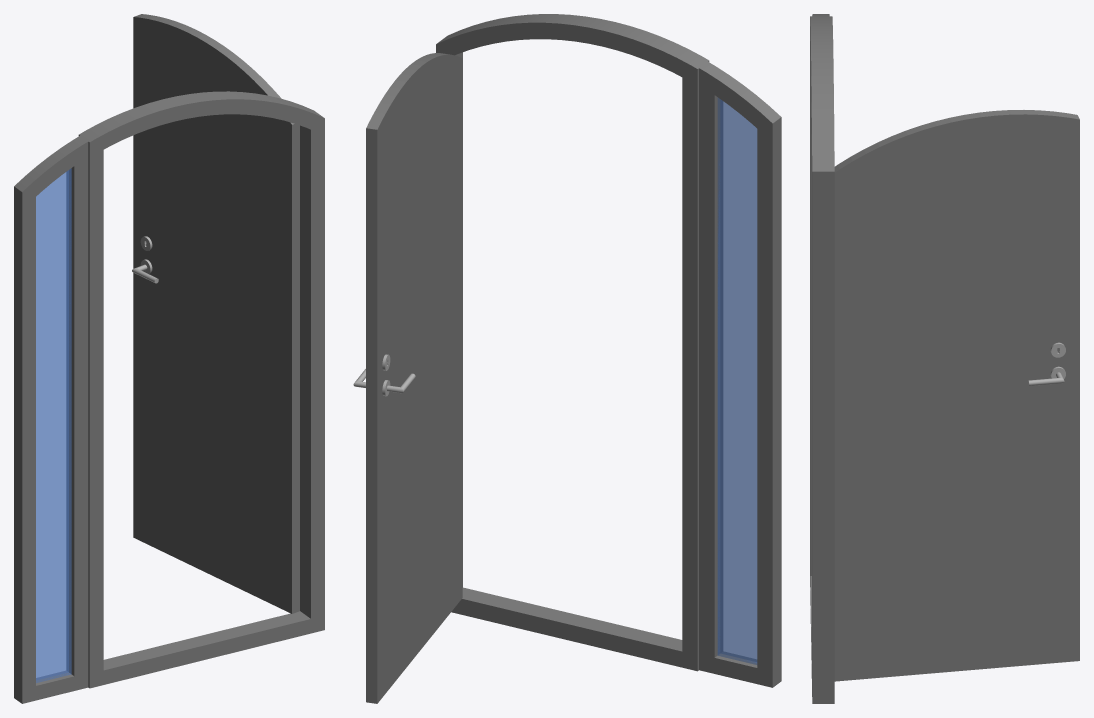
The model's file is Tuer.gltf.
The picture shows the model from 3 angles, left to right: view 1: azimuth 30°, elevation 25°; view 2: azimuth 150°, elevation 25°; view 3: azimuth 270°, elevation 25°; orthographic projection. The views are drawn at different scales.
Size of the model in its own units: 1.3 by 2.3 by 0.9648.
